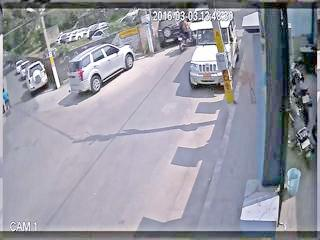Car: (68, 45, 137, 93), (27, 62, 48, 92), (193, 8, 211, 30), (74, 29, 89, 41), (19, 62, 29, 80), (64, 33, 76, 43), (15, 60, 22, 74)
Major Accident: (174, 8, 212, 48)
Motor: (175, 15, 195, 50)
